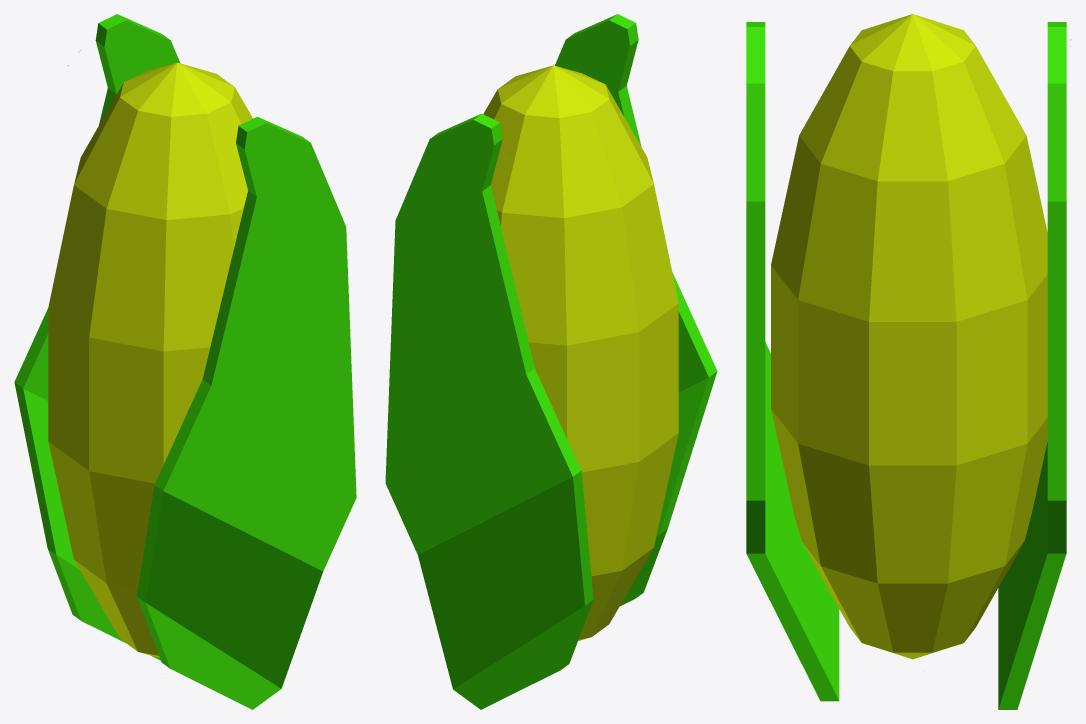
The model's file is mais1.fbx.
The picture shows the model from 3 angles, left to right: view 1: azimuth 30°, elevation 25°; view 2: azimuth 150°, elevation 25°; view 3: azimuth 270°, elevation 25°; orthographic projection. The views are drawn at different scales.
Visible parts, largest first — view 1: Plane; view 2: Plane; view 3: Plane.
Part boxes in pixels (x1,y1,x2,y2): Plane: [14, 14, 356, 709]; Plane: [385, 14, 717, 709]; Plane: [746, 14, 1070, 709].
Bounding box in the file's own units: 20.26 × 56.54 × 24.44.
